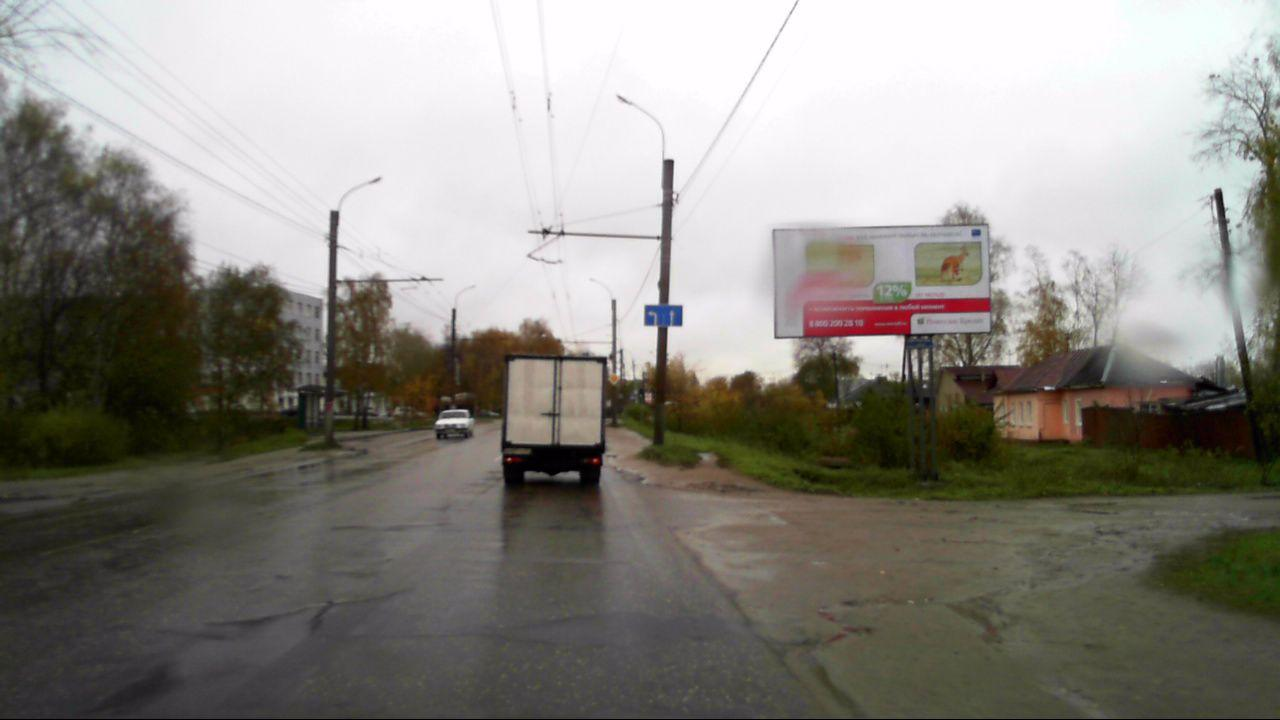5_15_1: (641, 301, 684, 329)
